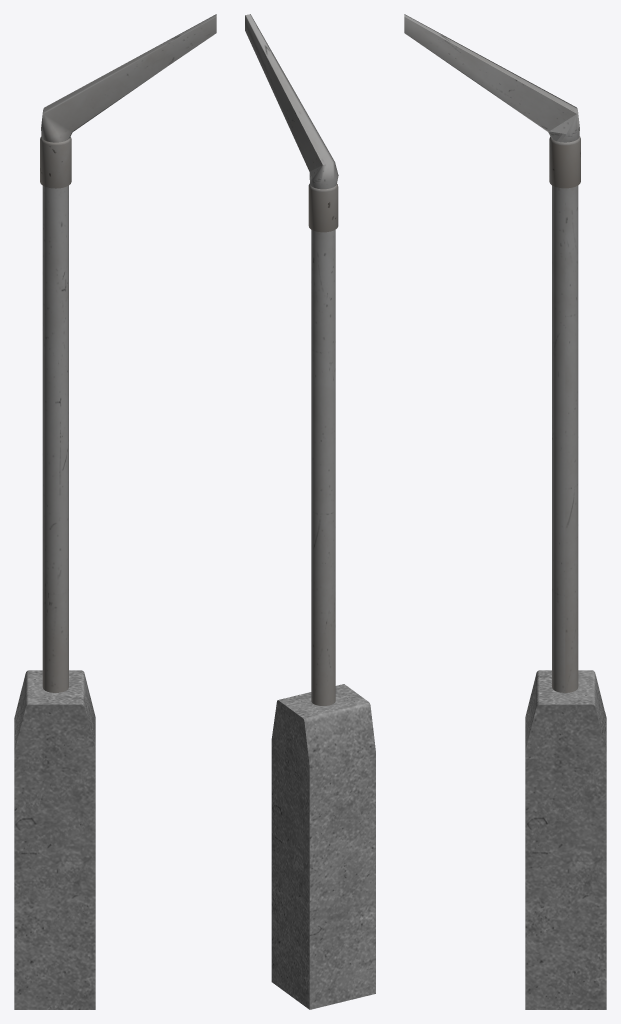
Rendered from chain_singlepost_wall_barbwire.fbx.
The picture shows the model from 3 angles, left to right: view 1: azimuth 90°, elevation 25°; view 2: azimuth 210°, elevation 25°; view 3: azimuth 270°, elevation 25°; orthographic projection. The views are drawn at different scales.
Parts seen in each view (by area): view 1: chain_singlepost_wall_barbwire; view 2: chain_singlepost_wall_barbwire; view 3: chain_singlepost_wall_barbwire.
Part boxes in pixels (x1,y1,x2,y2): chain_singlepost_wall_barbwire: (14,14,216,1009); chain_singlepost_wall_barbwire: (245,14,375,1009); chain_singlepost_wall_barbwire: (404,14,606,1009).
Bounding box in the file's own units: 0.2 × 2.65 × 0.4971.
Materials: 1 (1 with a texture image).
